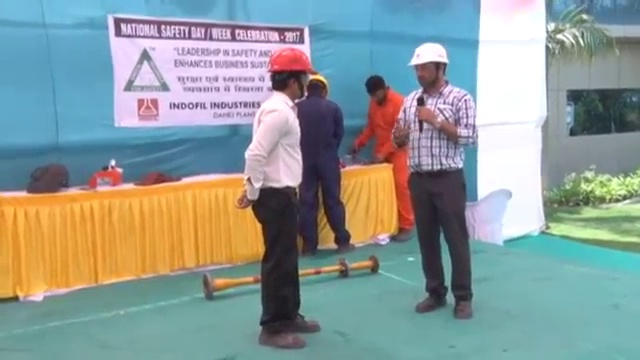helmet: (267, 47, 319, 75), (405, 40, 452, 69), (306, 71, 331, 91)
helmet_off: (363, 73, 392, 106)
helmet_on: (265, 47, 319, 103), (404, 39, 452, 95), (303, 68, 332, 102)
person: (233, 48, 325, 353), (391, 41, 478, 319), (293, 70, 357, 256), (351, 72, 419, 244)
